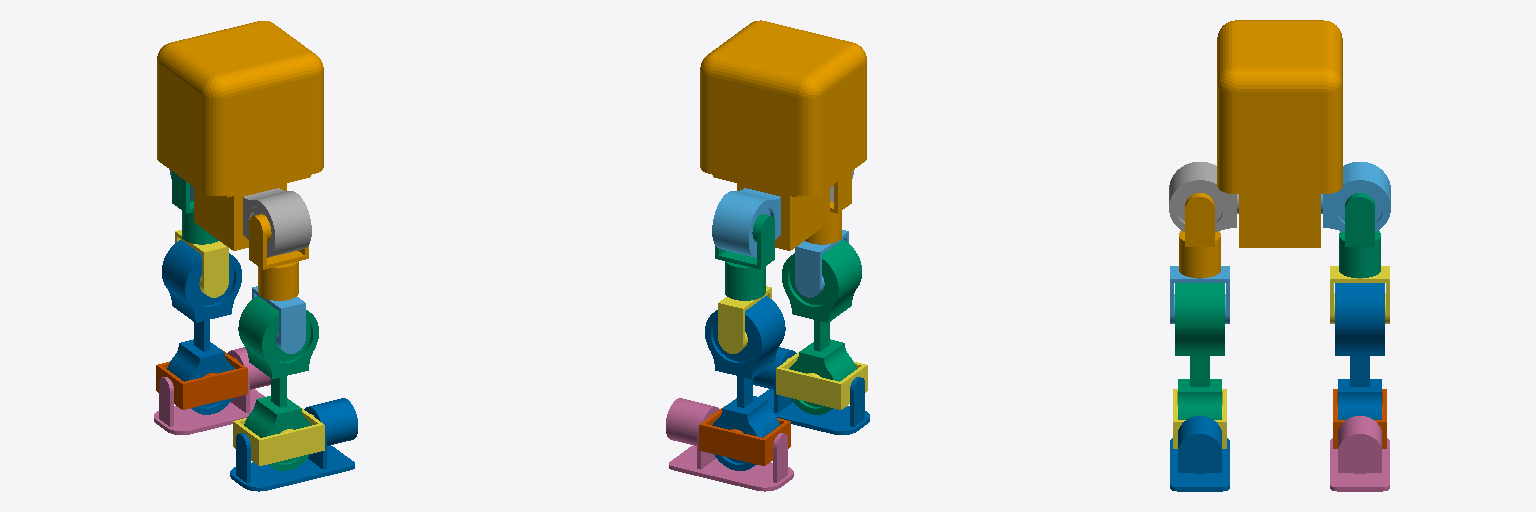
URDF robot description (biped_Laika):
<?xml version="1.0"?>
<robot name="biped_Laika">
  <mujoco>
    <compiler meshdir="meshes" strippath="true" balanceinertia="true" discardvisual="false" fusestatic="false"/>
  </mujoco>

  <link name="base_link">
    <inertial>
      <origin xyz="0 0 0.073803" rpy="0 0 0"/>
      <mass value="4.119"/>
      <inertia ixx="0.033496" iyy="0.034465" izz="0.015393" ixy="0" iyz="0" ixz="0"/>
    </inertial>
    <visual>
      <origin xyz="0 0 0" rpy="0 0 0"/>
      <geometry>
        <mesh filename="meshes/base_link.stl" scale="0.001 0.001 0.001"/>
      </geometry>
    </visual>
    <collision>
      <origin xyz="0 0 0" rpy="0 0 0"/>
      <geometry>
        <mesh filename="meshes/base_link.stl" scale="0.001 0.001 0.001"/>
      </geometry>
    </collision>
  </link>

  <link name="l_hip_pitch_link">
    <inertial>
      <origin xyz="0 0.050296 0" rpy="0 0 0"/>
      <mass value="0.718"/>
      <inertia ixx="0.000790158" iyy="0.000483931" izz="0.000644346" ixy="1.23489e-14" iyz="2.44362e-13" ixz="1.84639e-18"/>
    </inertial>
    <visual>
      <origin xyz="0 -0.0495 0" rpy="0 0 0"/>
      <geometry>
        <mesh filename="meshes/l_hip_pitch_link.stl" scale="0.001 0.001 0.001"/>
      </geometry>
    </visual>
    <collision>
      <origin xyz="0 -0.0495 0" rpy="0 0 0"/>
      <geometry>
        <mesh filename="meshes/l_hip_pitch_link.stl" scale="0.001 0.001 0.001"/>
      </geometry>
    </collision>
  </link>
  <joint name="l_hip_pitch_joint" type="revolute">
    <parent link="base_link"/>
    <child link="l_hip_pitch_link"/>
    <origin xyz="0 0.0495 0" rpy="0 0 0"/>
    <axis xyz="0 1 0"/>
    <limit lower="-1.309" upper="1.309" effort="36" velocity="20.0"/>
    <dynamics damping="0.1" friction="0.05"/>
  </joint>

  <link name="l_hip_roll_link">
    <inertial>
      <origin xyz="-0.0233 0 -0.058962" rpy="0 0 0"/>
      <mass value="0.487"/>
      <inertia ixx="0.000617116" iyy="0.000736969" izz="0.000290262" ixy="-1.02647e-19" iyz="5.17379e-15" ixz="3.12071e-14"/>
    </inertial>
    <visual>
      <origin xyz="-0.0233 -0.10725 0" rpy="0 0 0"/>
      <geometry>
        <mesh filename="meshes/l_hip_roll_link.stl" scale="0.001 0.001 0.001"/>
      </geometry>
    </visual>
    <collision>
      <origin xyz="-0.0233 -0.10725 0" rpy="0 0 0"/>
      <geometry>
        <mesh filename="meshes/l_hip_roll_link.stl" scale="0.001 0.001 0.001"/>
      </geometry>
    </collision>
  </link>
  <joint name="l_hip_roll_joint" type="revolute">
    <parent link="l_hip_pitch_link"/>
    <child link="l_hip_roll_link"/>
    <origin xyz="0.0233 0.05775 0" rpy="0 0 0"/>
    <axis xyz="1 0 0"/>
    <limit lower="-0.349066" upper="1.22173" effort="17" velocity="20.0"/>
    <dynamics damping="0.1" friction="0.05"/>
  </joint>

  <link name="l_hip_yaw_link">
    <inertial>
      <origin xyz="0 0 -0.03447" rpy="0 0 0"/>
      <mass value="0.186"/>
      <inertia ixx="0.000294852" iyy="0.000135246" izz="0.000203771" ixy="7.36471e-20" iyz="4.33681e-19" ixz="3.02096e-15"/>
    </inertial>
    <visual>
      <origin xyz="0 -0.10725 0.10425" rpy="0 0 0"/>
      <geometry>
        <mesh filename="meshes/l_hip_yaw_link.stl" scale="0.001 0.001 0.001"/>
      </geometry>
    </visual>
    <collision>
      <origin xyz="0 -0.10725 0.10425" rpy="0 0 0"/>
      <geometry>
        <mesh filename="meshes/l_hip_yaw_link.stl" scale="0.001 0.001 0.001"/>
      </geometry>
    </collision>
  </link>
  <joint name="l_hip_yaw_joint" type="revolute">
    <parent link="l_hip_roll_link"/>
    <child link="l_hip_yaw_link"/>
    <origin xyz="-0.0233 0 -0.10425" rpy="0 0 0"/>
    <axis xyz="0 0 -1"/>
    <limit lower="-1.0472" upper="1.0472" effort="14" velocity="20.0"/>
    <dynamics damping="0.1" friction="0.05"/>
  </joint>

  <link name="l_calf_link">
    <inertial>
      <origin xyz="0 -0.0271 -0.068349" rpy="0 0 0"/>
      <mass value="1.63"/>
      <inertia ixx="0.0105756" iyy="0.0109234" izz="0.00123188" ixy="8.18533e-15" iyz="3.54558e-17" ixz="1.37504e-13"/>
    </inertial>
    <visual>
      <origin xyz="0 -0.13435 0.16275" rpy="0 0 0"/>
      <geometry>
        <mesh filename="meshes/l_calf_link.stl" scale="0.001 0.001 0.001"/>
      </geometry>
    </visual>
    <collision>
      <origin xyz="0 -0.13435 0.16275" rpy="0 0 0"/>
      <geometry>
        <mesh filename="meshes/l_calf_link.stl" scale="0.001 0.001 0.001"/>
      </geometry>
    </collision>
  </link>
  <joint name="l_knee_joint" type="revolute">
    <parent link="l_hip_yaw_link"/>
    <child link="l_calf_link"/>
    <origin xyz="0 0.0271 -0.0585" rpy="0 0 0"/>
    <axis xyz="0 -1 0"/>
    <limit lower="-2.0944" upper="0" effort="36" velocity="20.0"/>
    <dynamics damping="0.1" friction="0.05"/>
  </joint>

  <link name="l_ankle_pitch_link">
    <inertial>
      <origin xyz="0.005708 -0.0233 1e-06" rpy="0 0 0"/>
      <mass value="0.259"/>
      <inertia ixx="0.000233795" iyy="0.000376382" izz="0.000545351" ixy="3.34788e-15" iyz="0" ixz="-2.2113e-08"/>
    </inertial>
    <visual>
      <origin xyz="0 -0.13055 0.3255" rpy="0 0 0"/>
      <geometry>
        <mesh filename="meshes/l_ankle_pitch_link.stl" scale="0.001 0.001 0.001"/>
      </geometry>
    </visual>
    <collision>
      <origin xyz="0 -0.13055 0.3255" rpy="0 0 0"/>
      <geometry>
        <mesh filename="meshes/l_ankle_pitch_link.stl" scale="0.001 0.001 0.001"/>
      </geometry>
    </collision>
  </link>
  <joint name="l_ankle_pitch_joint" type="revolute">
    <parent link="l_calf_link"/>
    <child link="l_ankle_pitch_link"/>
    <origin xyz="0 -0.0038 -0.16275" rpy="0 0 0"/>
    <axis xyz="0 1 0"/>
    <limit lower="-0.698132" upper="0.698132" effort="17" velocity="20.0"/>
    <dynamics damping="0.1" friction="0.05"/>
  </joint>

  <link name="l_ankle_roll_link">
    <inertial>
      <origin xyz="-0.004368 0 -0.019681" rpy="0 0 0"/>
      <mass value="0.641"/>
      <inertia ixx="0.000717936" iyy="0.0020512" izz="0.00173912" ixy="-2.55297e-14" iyz="-1.16271e-14" ixz="-0.000452512"/>
    </inertial>
    <visual>
      <origin xyz="-0.06 -0.10725 0.325495" rpy="0 0 0"/>
      <geometry>
        <mesh filename="meshes/l_ankle_roll_link.stl" scale="0.001 0.001 0.001"/>
      </geometry>
    </visual>
    <collision>
      <origin xyz="-0.06 -0.10725 0.325495" rpy="0 0 0"/>
      <geometry>
        <mesh filename="meshes/l_ankle_roll_link.stl" scale="0.001 0.001 0.001"/>
      </geometry>
    </collision>
  </link>
  <joint name="l_ankle_roll_joint" type="revolute">
    <parent link="l_ankle_pitch_link"/>
    <child link="l_ankle_roll_link"/>
    <origin xyz="0.06 -0.0233 0" rpy="0 0 0"/>
    <axis xyz="1 0 0"/>
    <limit lower="-0.610865" upper="0.610865" effort="14" velocity="20.0"/>
    <dynamics damping="0.1" friction="0.05"/>
  </joint>

  <link name="r_hip_pitch_link">
    <inertial>
      <origin xyz="0 -0.050296 0" rpy="0 0 0"/>
      <mass value="0.718"/>
      <inertia ixx="0.000790158" iyy="0.000483931" izz="0.000644346" ixy="-1.23489e-14" iyz="-2.44361e-13" ixz="1.06896e-18"/>
    </inertial>
    <visual>
      <origin xyz="0 0.0495 0" rpy="3.14159 0 0"/>
      <geometry>
        <mesh filename="meshes/r_hip_pitch_link.stl" scale="0.001 0.001 0.001"/>
      </geometry>
    </visual>
    <collision>
      <origin xyz="0 0.0495 0" rpy="3.14159 0 0"/>
      <geometry>
        <mesh filename="meshes/r_hip_pitch_link.stl" scale="0.001 0.001 0.001"/>
      </geometry>
    </collision>
  </link>
  <joint name="r_hip_pitch_joint" type="revolute">
    <parent link="base_link"/>
    <child link="r_hip_pitch_link"/>
    <origin xyz="0 -0.0495 0" rpy="0 0 0"/>
    <axis xyz="0 -1 0"/>
    <limit lower="-1.309" upper="1.309" effort="36" velocity="20.0"/>
    <dynamics damping="0.1" friction="0.05"/>
  </joint>

  <link name="r_hip_roll_link">
    <inertial>
      <origin xyz="-0.0233 0 -0.058962" rpy="0 0 0"/>
      <mass value="0.487"/>
      <inertia ixx="0.000617116" iyy="0.000736969" izz="0.000290262" ixy="-9.84267e-21" iyz="-5.17109e-15" ixz="3.1207e-14"/>
    </inertial>
    <visual>
      <origin xyz="-0.0233 0.10725 0" rpy="3.14159 0 0"/>
      <geometry>
        <mesh filename="meshes/r_hip_roll_link.stl" scale="0.001 0.001 0.001"/>
      </geometry>
    </visual>
    <collision>
      <origin xyz="-0.0233 0.10725 0" rpy="3.14159 0 0"/>
      <geometry>
        <mesh filename="meshes/r_hip_roll_link.stl" scale="0.001 0.001 0.001"/>
      </geometry>
    </collision>
  </link>
  <joint name="r_hip_roll_joint" type="revolute">
    <parent link="r_hip_pitch_link"/>
    <child link="r_hip_roll_link"/>
    <origin xyz="0.0233 -0.05775 0" rpy="0 0 0"/>
    <axis xyz="1 0 0"/>
    <limit lower="-1.22173" upper="0.349066" effort="17" velocity="20.0"/>
    <dynamics damping="0.1" friction="0.05"/>
  </joint>

  <link name="r_hip_yaw_link">
    <inertial>
      <origin xyz="0 0 -0.03447" rpy="0 0 0"/>
      <mass value="0.186"/>
      <inertia ixx="0.000294852" iyy="0.000135246" izz="0.000203771" ixy="-1.30572e-19" iyz="-8.67362e-19" ixz="3.02088e-15"/>
    </inertial>
    <visual>
      <origin xyz="0 0.10725 0.10425" rpy="3.14159 0 0"/>
      <geometry>
        <mesh filename="meshes/r_hip_yaw_link.stl" scale="0.001 0.001 0.001"/>
      </geometry>
    </visual>
    <collision>
      <origin xyz="0 0.10725 0.10425" rpy="3.14159 0 0"/>
      <geometry>
        <mesh filename="meshes/r_hip_yaw_link.stl" scale="0.001 0.001 0.001"/>
      </geometry>
    </collision>
  </link>
  <joint name="r_hip_yaw_joint" type="revolute">
    <parent link="r_hip_roll_link"/>
    <child link="r_hip_yaw_link"/>
    <origin xyz="-0.0233 0 -0.10425" rpy="0 0 0"/>
    <axis xyz="0 0 -1"/>
    <limit lower="-1.0472" upper="1.0472" effort="14" velocity="20.0"/>
    <dynamics damping="0.1" friction="0.05"/>
  </joint>

  <link name="r_calf_link">
    <inertial>
      <origin xyz="0 0.0271 -0.068349" rpy="0 0 0"/>
      <mass value="1.63"/>
      <inertia ixx="0.0105756" iyy="0.0109234" izz="0.00123188" ixy="-8.18506e-15" iyz="-2.12735e-17" ixz="1.37498e-13"/>
    </inertial>
    <visual>
      <origin xyz="0 0.13435 0.16275" rpy="3.14159 0 0"/>
      <geometry>
        <mesh filename="meshes/r_calf_link.stl" scale="0.001 0.001 0.001"/>
      </geometry>
    </visual>
    <collision>
      <origin xyz="0 0.13435 0.16275" rpy="3.14159 0 0"/>
      <geometry>
        <mesh filename="meshes/r_calf_link.stl" scale="0.001 0.001 0.001"/>
      </geometry>
    </collision>
  </link>
  <joint name="r_knee_joint" type="revolute">
    <parent link="r_hip_yaw_link"/>
    <child link="r_calf_link"/>
    <origin xyz="0 -0.0271 -0.0585" rpy="0 0 0"/>
    <axis xyz="0 1 0"/>
    <limit lower="0" upper="2.0944" effort="36" velocity="20.0"/>
    <dynamics damping="0.1" friction="0.05"/>
  </joint>

  <link name="r_ankle_pitch_link">
    <inertial>
      <origin xyz="0.005708 0.0233 1e-06" rpy="0 0 0"/>
      <mass value="0.259"/>
      <inertia ixx="0.000233795" iyy="0.000376382" izz="0.000545351" ixy="-3.34945e-15" iyz="2.25514e-17" ixz="-2.2113e-08"/>
    </inertial>
    <visual>
      <origin xyz="0 0.13055 0.3255" rpy="3.14159 0 0"/>
      <geometry>
        <mesh filename="meshes/r_ankle_pitch_link.stl" scale="0.001 0.001 0.001"/>
      </geometry>
    </visual>
    <collision>
      <origin xyz="0 0.13055 0.3255" rpy="3.14159 0 0"/>
      <geometry>
        <mesh filename="meshes/r_ankle_pitch_link.stl" scale="0.001 0.001 0.001"/>
      </geometry>
    </collision>
  </link>
  <joint name="r_ankle_pitch_joint" type="revolute">
    <parent link="r_calf_link"/>
    <child link="r_ankle_pitch_link"/>
    <origin xyz="0 0.0038 -0.16275" rpy="0 0 0"/>
    <axis xyz="0 -1 0"/>
    <limit lower="-0.698132" upper="0.698132" effort="17" velocity="20.0"/>
    <dynamics damping="0.1" friction="0.05"/>
  </joint>

  <link name="r_ankle_roll_link">
    <inertial>
      <origin xyz="-0.004368 0 -0.019681" rpy="0 0 0"/>
      <mass value="0.641"/>
      <inertia ixx="0.000717936" iyy="0.0020512" izz="0.00173912" ixy="2.55314e-14" iyz="1.16235e-14" ixz="-0.000452512"/>
    </inertial>
    <visual>
      <origin xyz="-0.06 0.10725 0.325495" rpy="3.14159 0 0"/>
      <geometry>
        <mesh filename="meshes/r_ankle_roll_link.stl" scale="0.001 0.001 0.001"/>
      </geometry>
    </visual>
    <collision>
      <origin xyz="-0.06 0.10725 0.325495" rpy="3.14159 0 0"/>
      <geometry>
        <mesh filename="meshes/r_ankle_roll_link.stl" scale="0.001 0.001 0.001"/>
      </geometry>
    </collision>
  </link>
  <joint name="r_ankle_roll_joint" type="revolute">
    <parent link="r_ankle_pitch_link"/>
    <child link="r_ankle_roll_link"/>
    <origin xyz="0.06 0.0233 0" rpy="0 0 0"/>
    <axis xyz="1 0 0"/>
    <limit lower="-0.610865" upper="0.610865" effort="14" velocity="20.0"/>
    <dynamics damping="0.1" friction="0.05"/>
  </joint>

</robot>

--- Facts derived from the render (not from the file) ---
Views: 3 orthographic renders of the robot side by side, from view 1: azimuth 30°, elevation 25°; view 2: azimuth 150°, elevation 25°; view 3: azimuth 270°, elevation 25°.
Robot: biped_Laika — 13 links, 12 joints (12 revolute); root link base_link; default pose: every joint at zero.
Visible links, largest first — view 1: base_link, r_calf_link, l_calf_link, r_ankle_roll_link, l_ankle_roll_link, r_hip_pitch_link, r_hip_roll_link, l_ankle_pitch_link, r_ankle_pitch_link, r_hip_yaw_link, l_hip_yaw_link, l_hip_roll_link; view 2: base_link, l_calf_link, r_calf_link, l_ankle_roll_link, r_ankle_roll_link, l_hip_pitch_link, l_hip_roll_link, r_ankle_pitch_link, l_ankle_pitch_link, l_hip_yaw_link, r_hip_yaw_link, r_hip_roll_link; view 3: base_link, l_calf_link, r_calf_link, l_ankle_roll_link, r_ankle_roll_link, l_hip_roll_link, r_hip_roll_link, l_hip_pitch_link, r_hip_pitch_link, l_hip_yaw_link, r_hip_yaw_link, l_ankle_pitch_link (+1 smaller).
Boxes of the visible links, x1=… form: base_link: x1=157, y1=21, x2=323, y2=250; r_calf_link: x1=238, y1=296, x2=318, y2=470; l_calf_link: x1=162, y1=240, x2=241, y2=414; r_ankle_roll_link: x1=230, y1=398, x2=357, y2=491; l_ankle_roll_link: x1=154, y1=347, x2=270, y2=434; r_hip_pitch_link: x1=243, y1=188, x2=311, y2=257; r_hip_roll_link: x1=249, y1=214, x2=308, y2=300; l_ankle_pitch_link: x1=156, y1=349, x2=247, y2=409; r_ankle_pitch_link: x1=233, y1=406, x2=324, y2=465; r_hip_yaw_link: x1=252, y1=286, x2=305, y2=353; l_hip_yaw_link: x1=175, y1=230, x2=228, y2=297; l_hip_roll_link: x1=172, y1=171, x2=218, y2=244; base_link: x1=700, y1=20, x2=866, y2=250; l_calf_link: x1=705, y1=296, x2=785, y2=470; r_calf_link: x1=782, y1=240, x2=861, y2=414; l_ankle_roll_link: x1=666, y1=398, x2=793, y2=491; r_ankle_roll_link: x1=753, y1=347, x2=869, y2=434; l_hip_pitch_link: x1=712, y1=188, x2=780, y2=257; l_hip_roll_link: x1=715, y1=214, x2=774, y2=300; r_ankle_pitch_link: x1=776, y1=349, x2=867, y2=409; l_ankle_pitch_link: x1=699, y1=406, x2=790, y2=465; l_hip_yaw_link: x1=718, y1=286, x2=771, y2=353; r_hip_yaw_link: x1=795, y1=230, x2=848, y2=297; r_hip_roll_link: x1=805, y1=171, x2=851, y2=244; base_link: x1=1217, y1=20, x2=1342, y2=247; l_calf_link: x1=1335, y1=283, x2=1384, y2=419; r_calf_link: x1=1175, y1=283, x2=1224, y2=419; l_ankle_roll_link: x1=1330, y1=416, x2=1389, y2=491; r_ankle_roll_link: x1=1170, y1=416, x2=1229, y2=491; l_hip_roll_link: x1=1339, y1=193, x2=1380, y2=277; r_hip_roll_link: x1=1179, y1=193, x2=1220, y2=277; l_hip_pitch_link: x1=1321, y1=162, x2=1390, y2=232; r_hip_pitch_link: x1=1169, y1=162, x2=1238, y2=232; l_hip_yaw_link: x1=1330, y1=266, x2=1389, y2=323; r_hip_yaw_link: x1=1170, y1=266, x2=1229, y2=323; l_ankle_pitch_link: x1=1333, y1=389, x2=1386, y2=448.
Size in the robot's own frame: 0.2075 by 0.2975 by 0.612 metres.
Meshes: 13 distinct files referenced, 13 mesh visuals loaded (13 binary STL).
